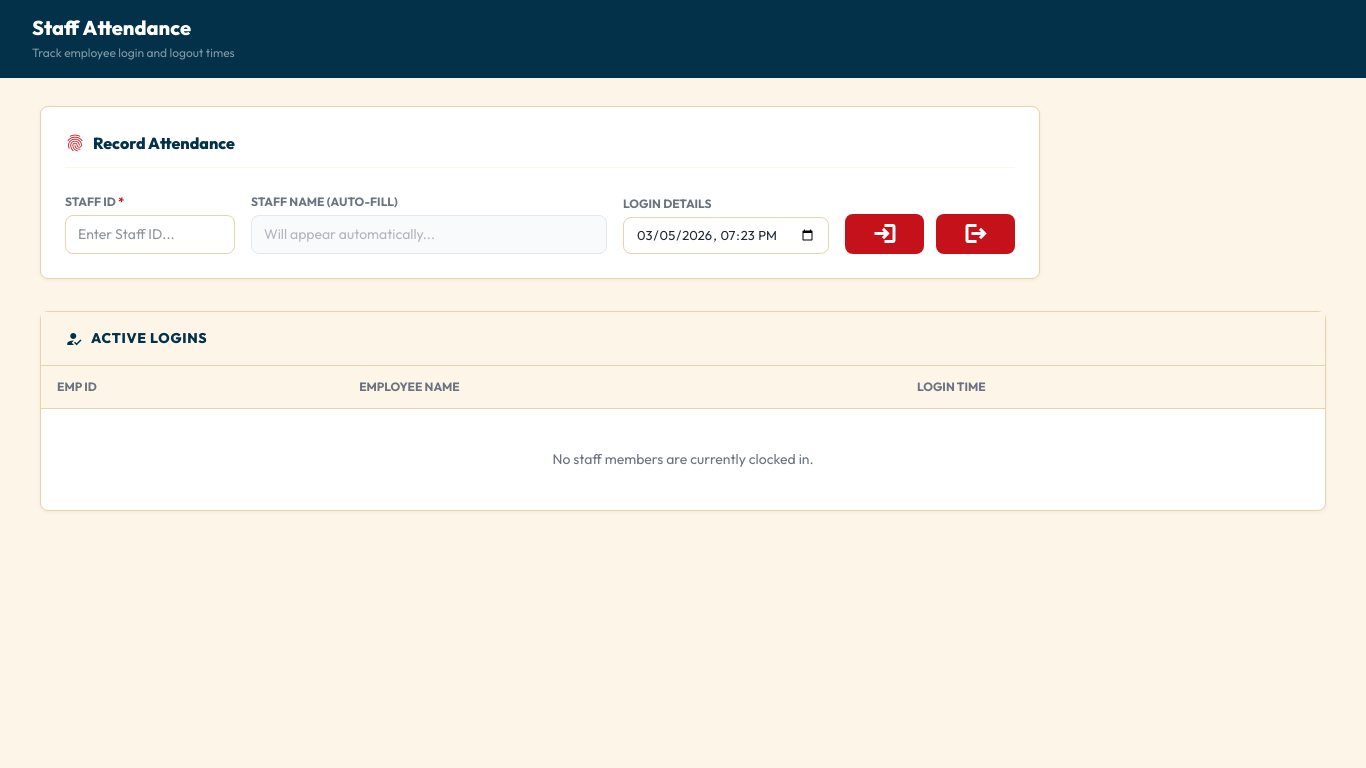
Test: fetches staff details on staff ID input
In the field with placeholder "Enter Staff ID...": (150, 234) [65, 215, 235, 254], type "EMP001"
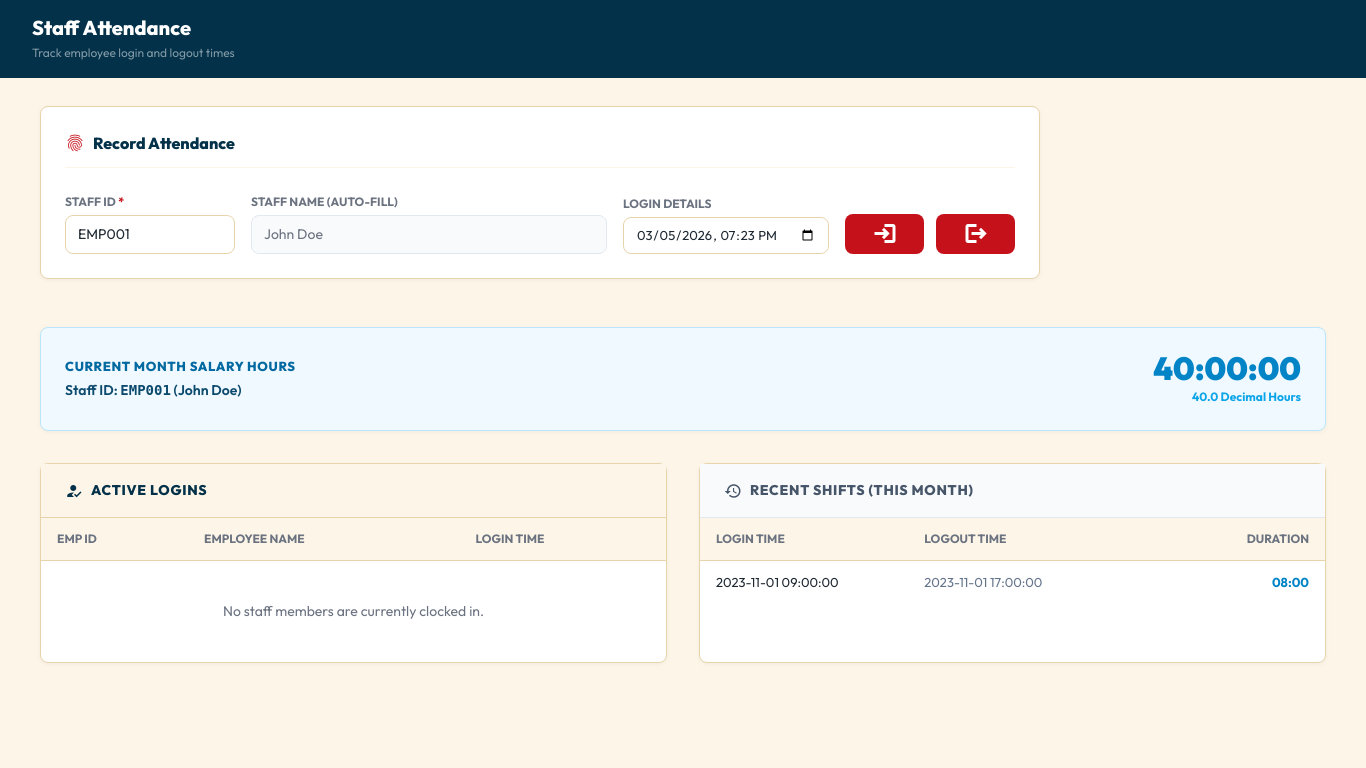
expect the field with placeholder "Will appear automatically..." below "Staff Name (Auto-fill)" holds "John Doe": met, box [251, 215, 607, 254]
expect the heading "Current Month Salary Hours" is shown: met, box [65, 357, 296, 376]
expect the text "40:00:00" is shown: met, box [1153, 352, 1301, 384]
